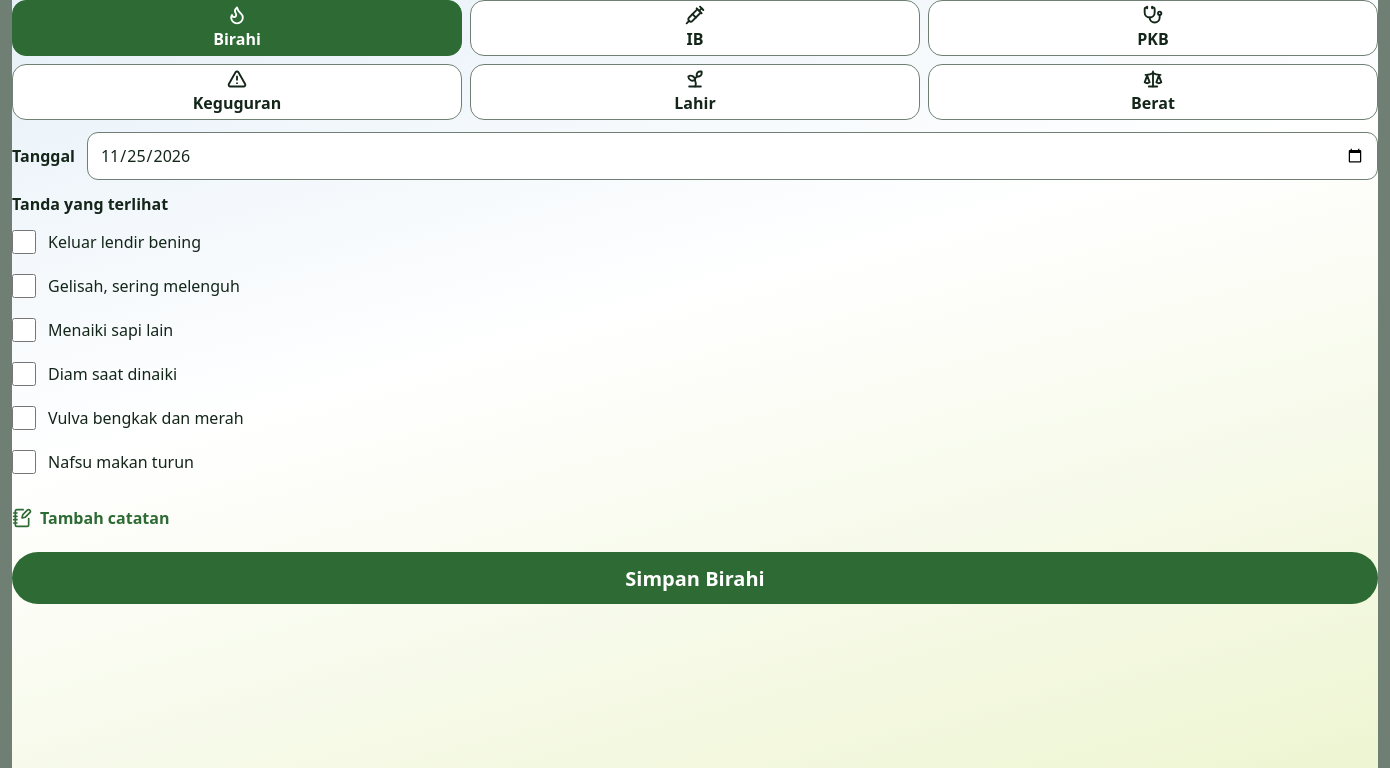
Test: EventForm › IB tanpa kode straw: pesan jelas per isian, belum dikirim
The image size is (1390, 768).
Click the radio button labelled "IB".
click(695, 28)  # box [470,0,920,56]
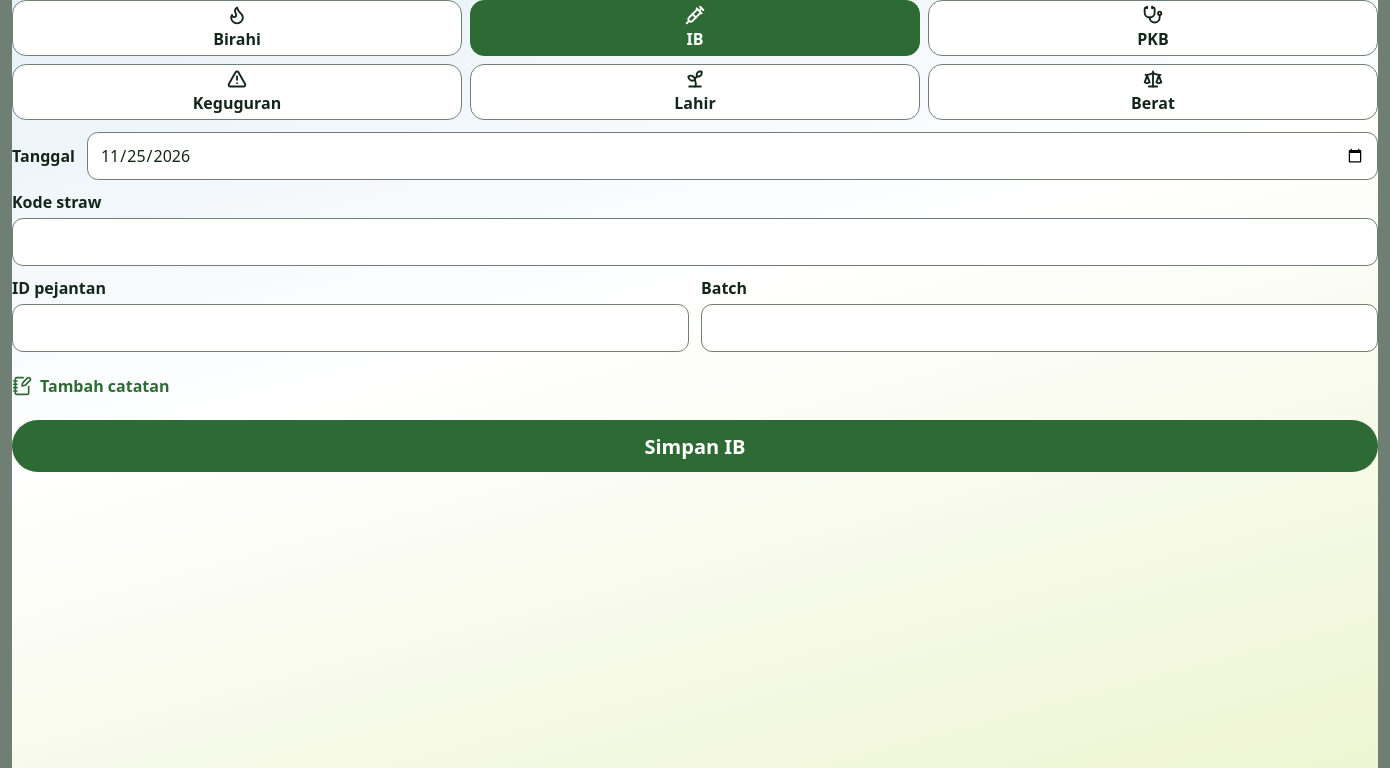
Click the button "Simpan IB".
click(695, 446)  # box [12,420,1378,472]
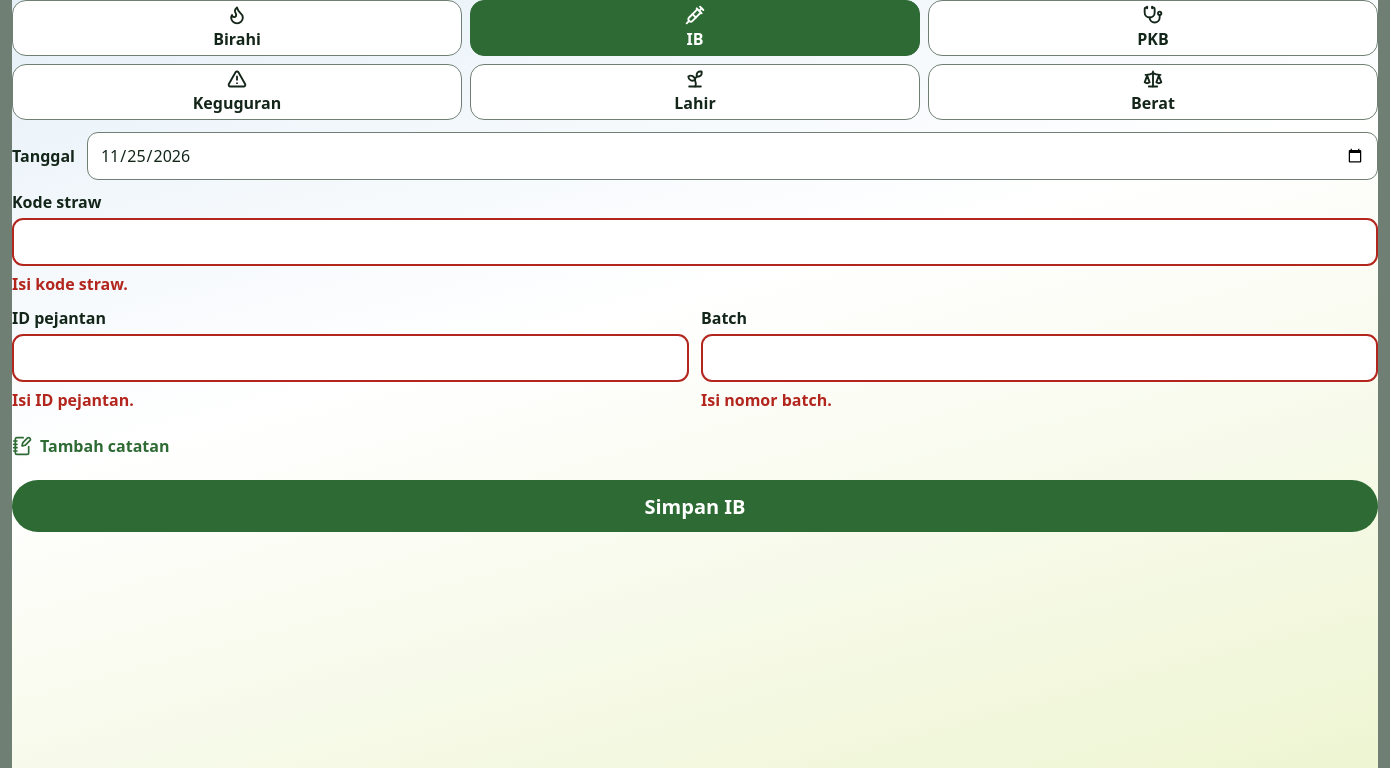
Result: the text "Isi kode straw." is shown at [12,273,128,295]
Result: the text "Isi ID pejantan." is shown at [12,389,134,411]
